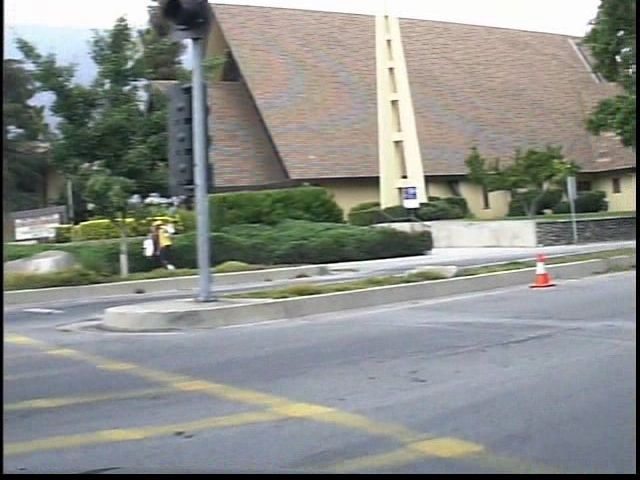person: (163, 215, 198, 275)
